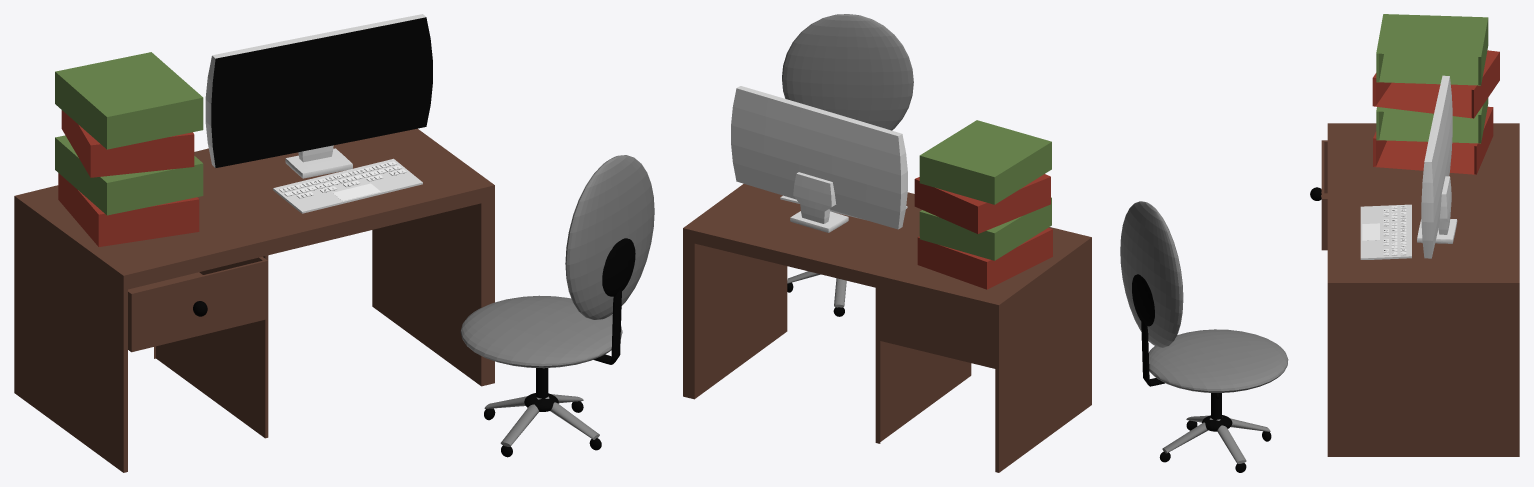
Rendered from Desk1.gltf.
3 renders of one model, left to right at view 1: azimuth 30°, elevation 25°; view 2: azimuth 150°, elevation 25°; view 3: azimuth 270°, elevation 25°, orthographic. The views are drawn at different scales.
Visible parts, largest first — view 1: Desk.002; view 2: Desk.002; view 3: Desk.002.
Boxes of the visible parts, <box> form: Desk.002: <box>14,14,654,472</box>; Desk.002: <box>683,14,1091,472</box>; Desk.002: <box>1120,14,1519,472</box>.
Size of the model in its own units: 11.76 by 8.32 by 10.34.
Materials: 15 (8 with a texture image).
